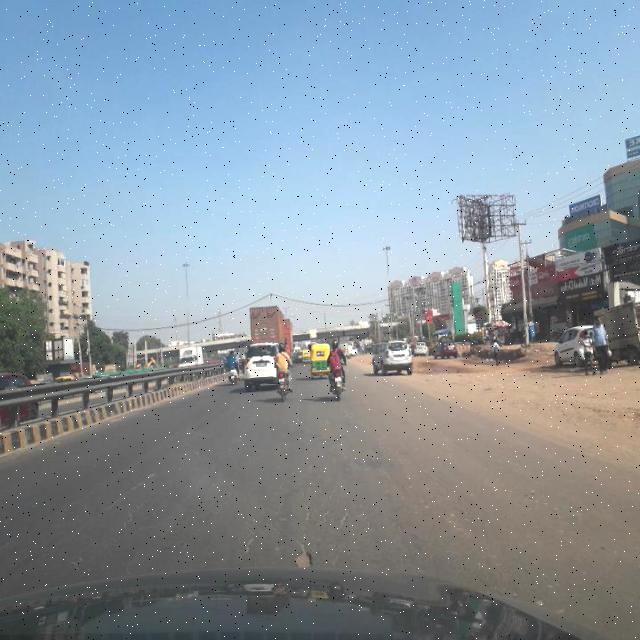D00: (79, 436, 198, 570)
D20: (216, 458, 413, 566)
D40: (285, 528, 330, 566)
